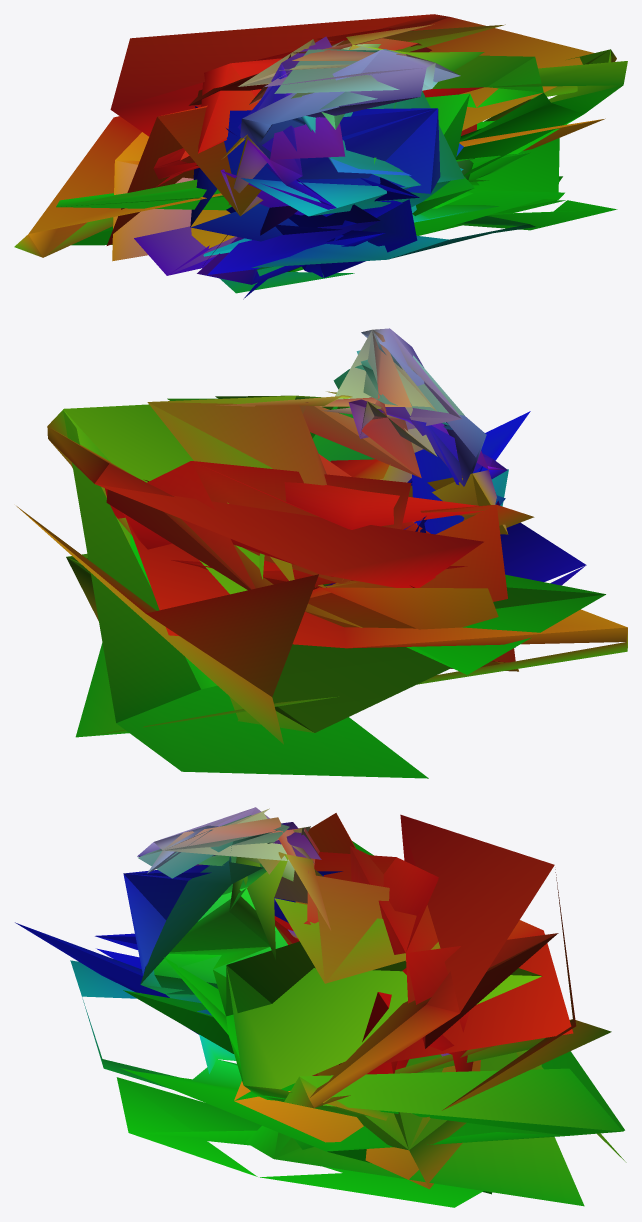
Rendered from zeometry-fragments-ruins-shard-cluster_v5.fbx.
3 renders of one model, top to bottom at view 1: azimuth 30°, elevation 25°; view 2: azimuth 150°, elevation 25°; view 3: azimuth 270°, elevation 25°, orthographic. The views are drawn at different scales.
Parts seen in each view (by area): view 1: Shard Cluster_v5; view 2: Shard Cluster_v5; view 3: Shard Cluster_v5.
Part boxes in pixels (left/top/right/bottom): Shard Cluster_v5: left=14, top=14, right=627, bottom=299; Shard Cluster_v5: left=16, top=328, right=627, bottom=778; Shard Cluster_v5: left=15, top=807, right=626, bottom=1207.
Bounding box in the file's own units: 0.5 × 0.2502 × 0.4154.
